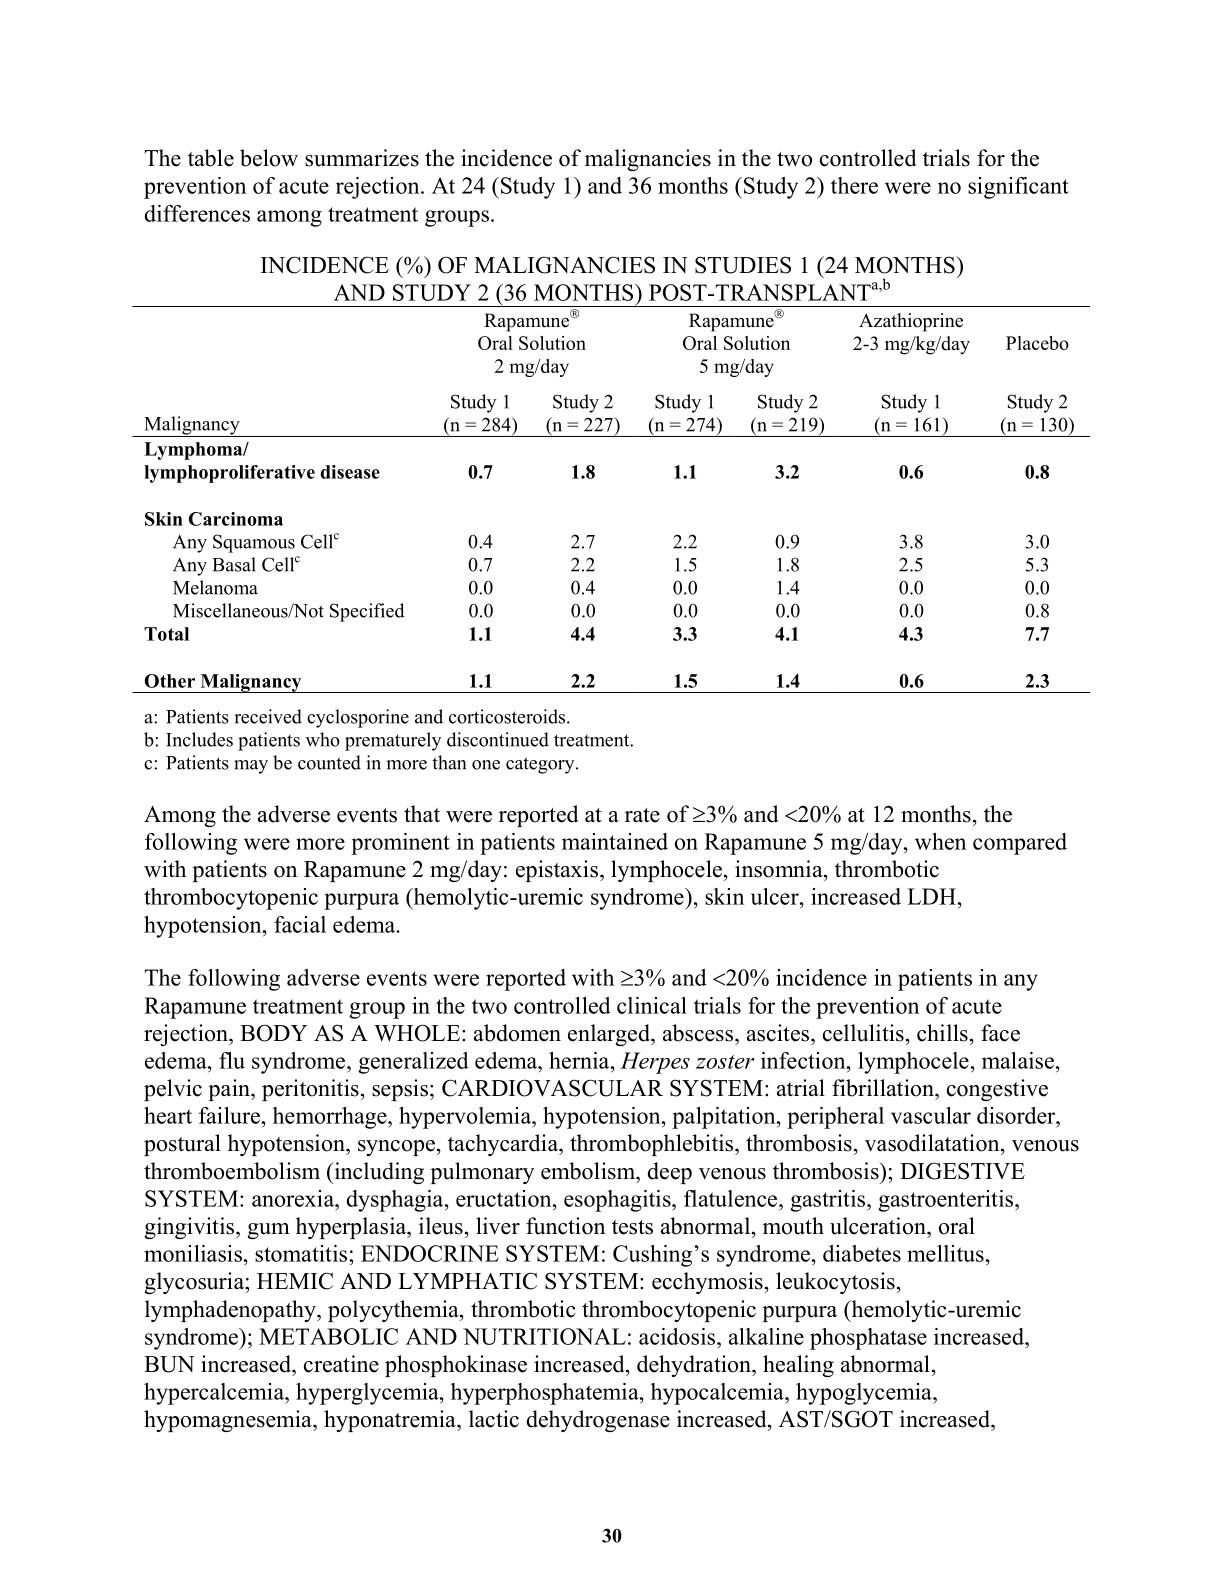partial_lined_merged_cells: (132, 305, 1092, 694)
